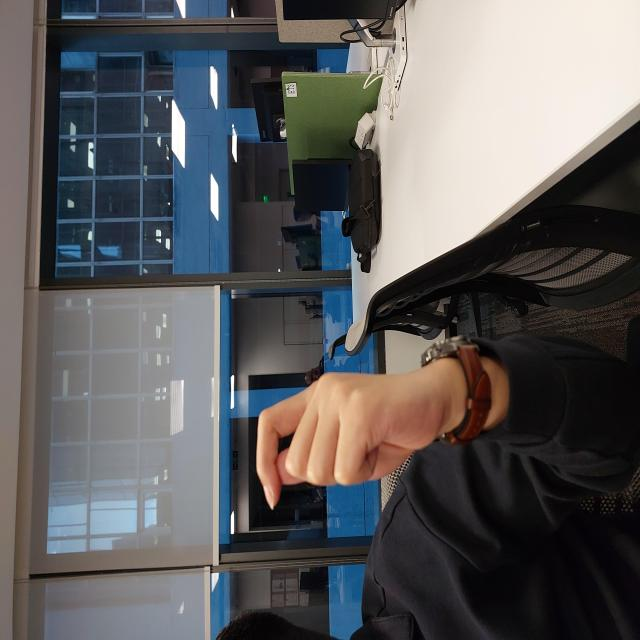T: (132, 256, 269, 444)
